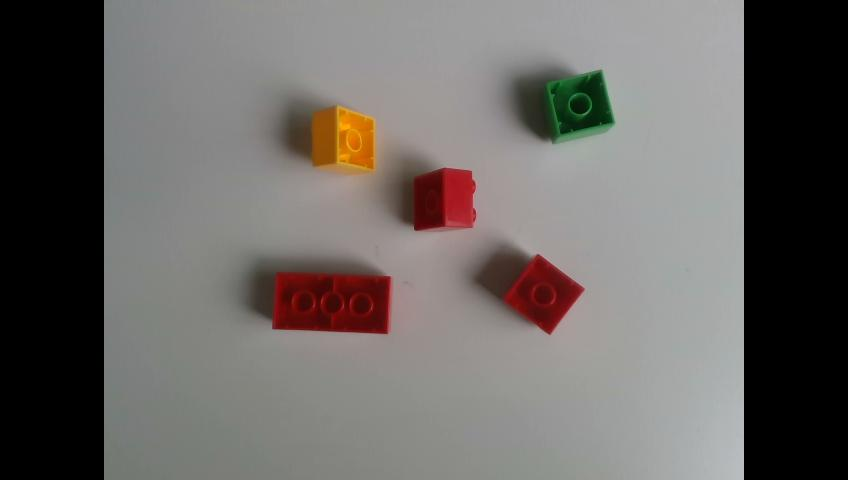2x2_green: (542, 69, 617, 144)
2x2_red: (502, 251, 585, 336), (413, 167, 478, 234)
2x2_yellow: (312, 103, 376, 180)
4x2_red: (270, 270, 393, 334)
